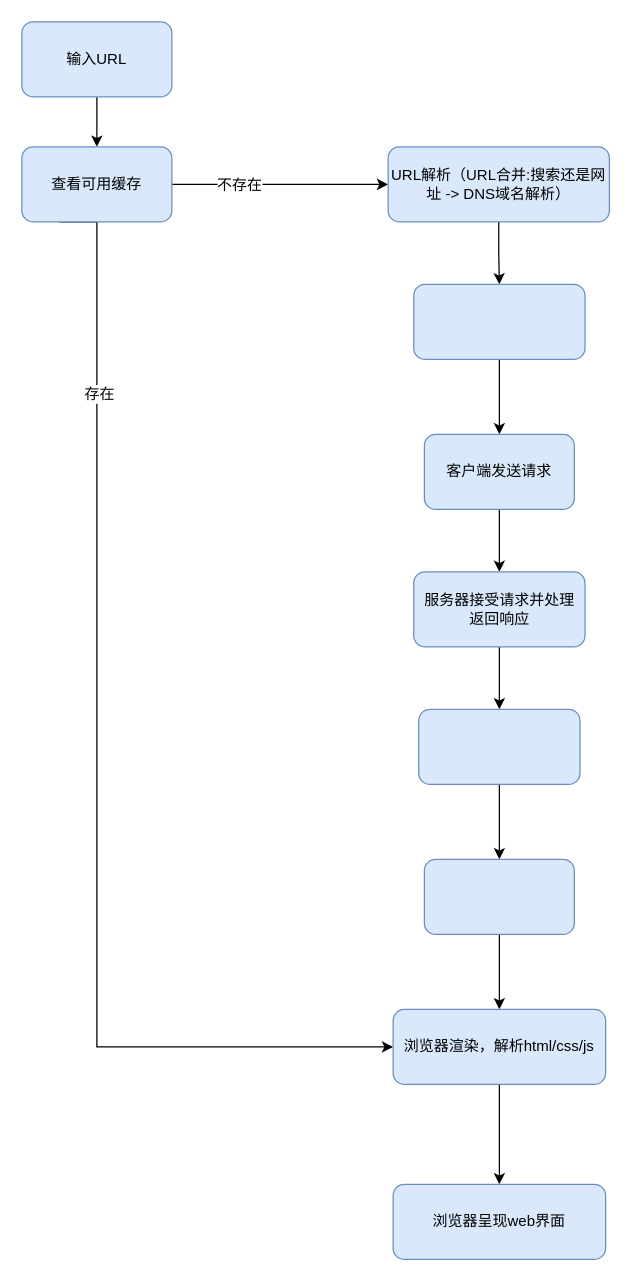
Some shapes in this 631 by 1281 pixel diagram are drawn without their labels. The shapes that lost their labels are listed below. From the top down, each one's centre as x and y in pixels, then its label:
At [498,321]: "建立连接（三次握手）".
At [499,746]: "关闭连接（四次挥手）".
At [498,896]: "得到资源（可缓存）".
